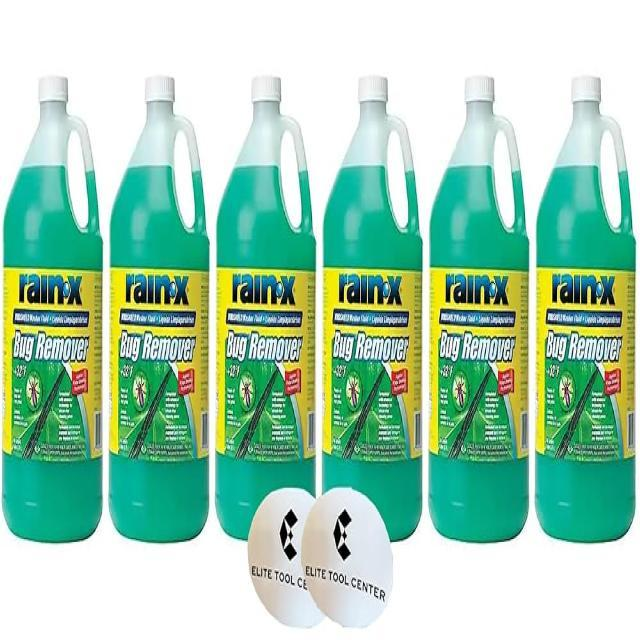winwinshield_washer: (531, 70, 640, 559), (424, 71, 528, 562), (0, 74, 106, 544), (217, 72, 318, 546), (112, 74, 212, 547), (329, 72, 417, 559)
